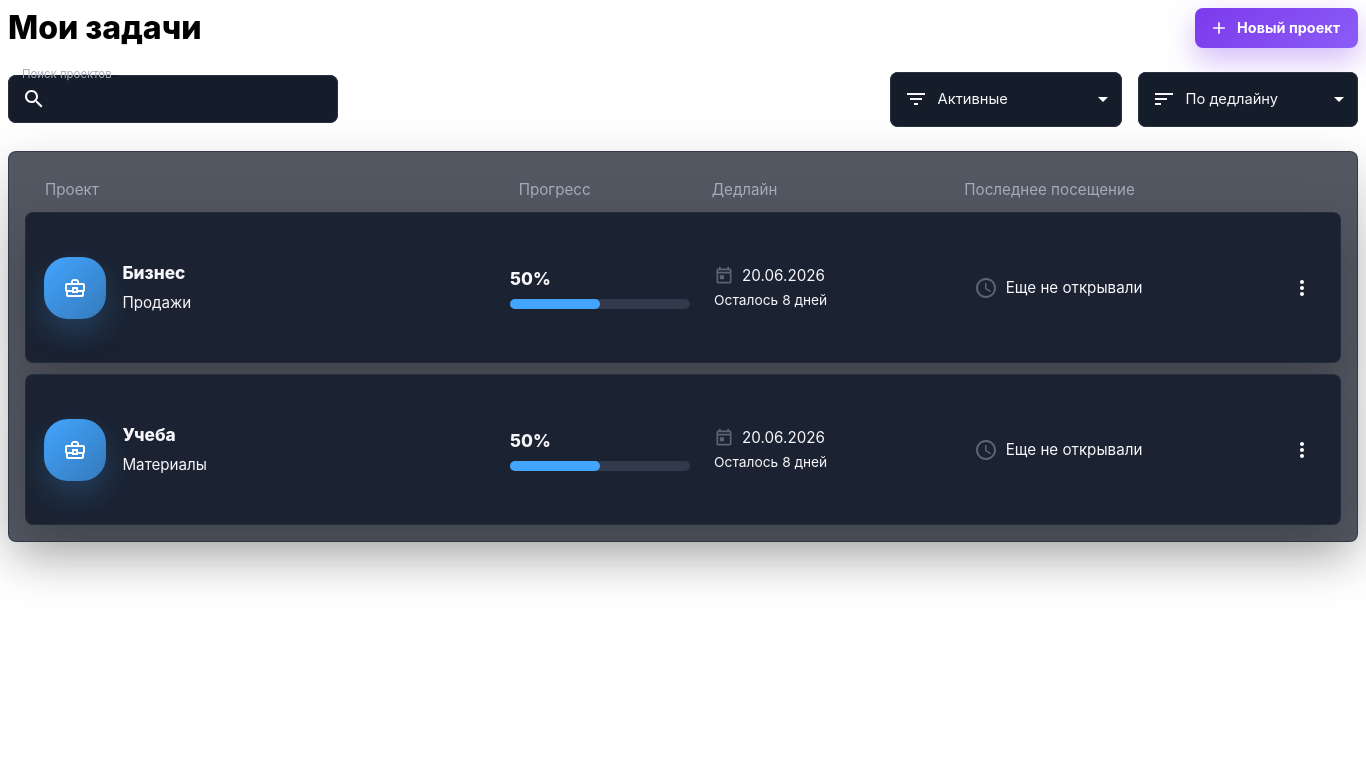
Scenario: ProjectsPage › searches active projects and can switch to archived projects
Type "материал" into the field labelled "Поиск проектов" at (196,99), box x1=54 y1=80 x2=338 y2=118
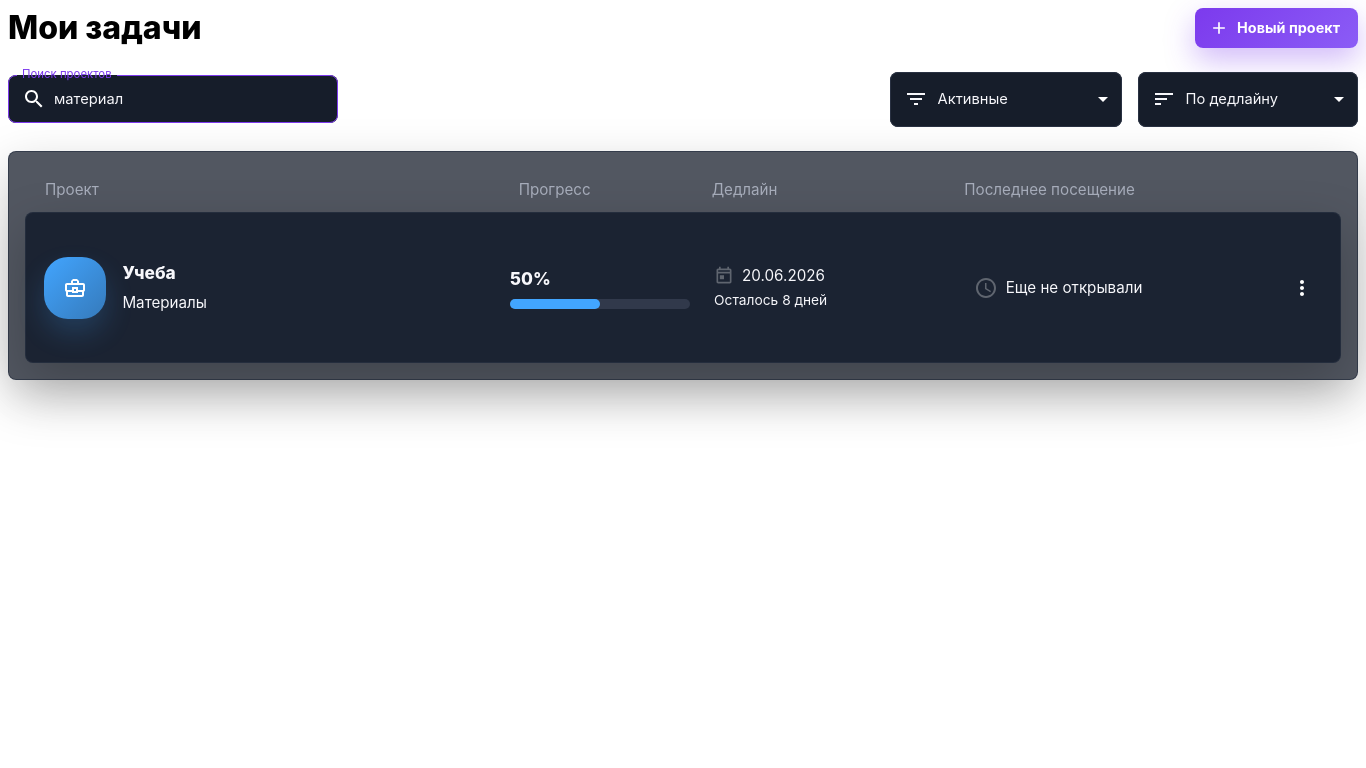
Expected: the link "Учеба" is shown, x1=44 y1=257 x2=1262 y2=319
Expected: the link "Бизнес" is gone
Click the dropdown named "Фильтр проектов" at (973,98), box x1=938 y1=90 x2=1008 y2=108
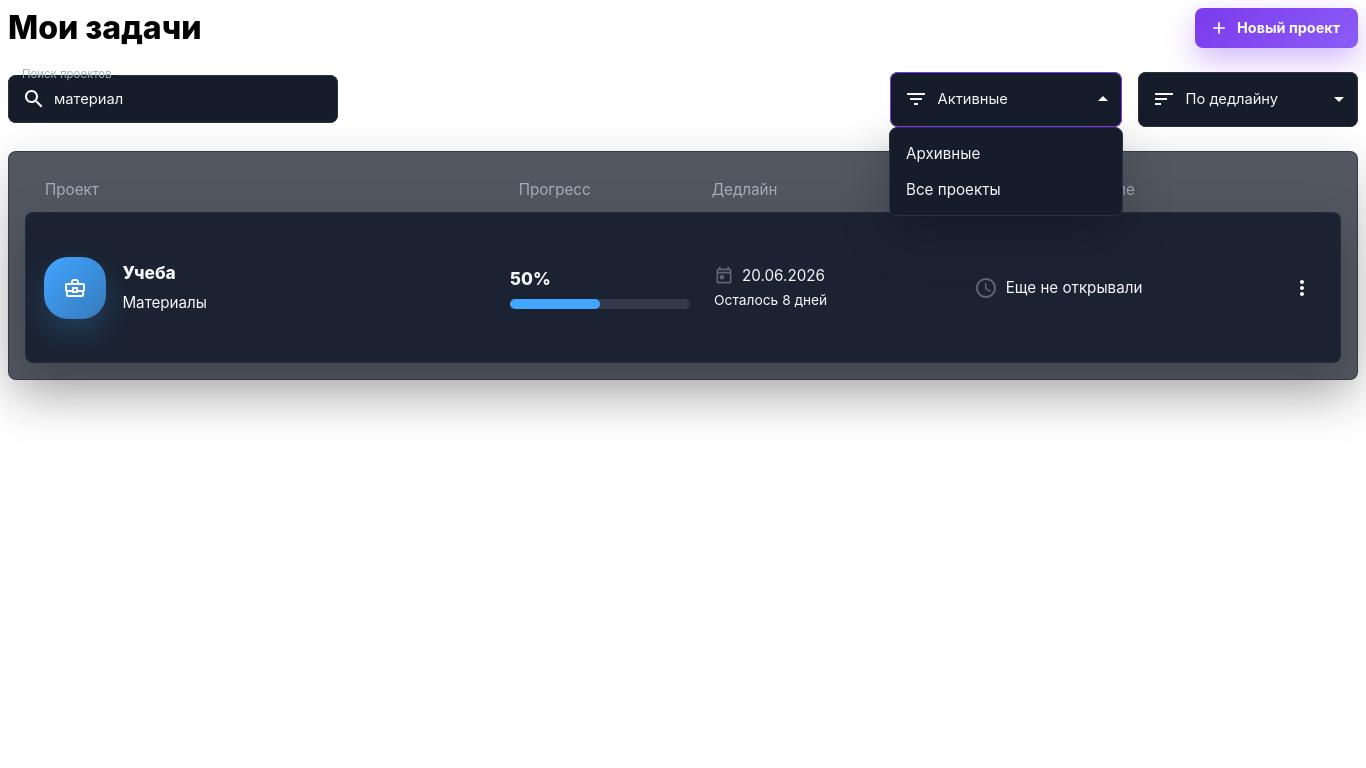
Click the option "Архивные" at (943,154), box x1=906 y1=144 x2=980 y2=163
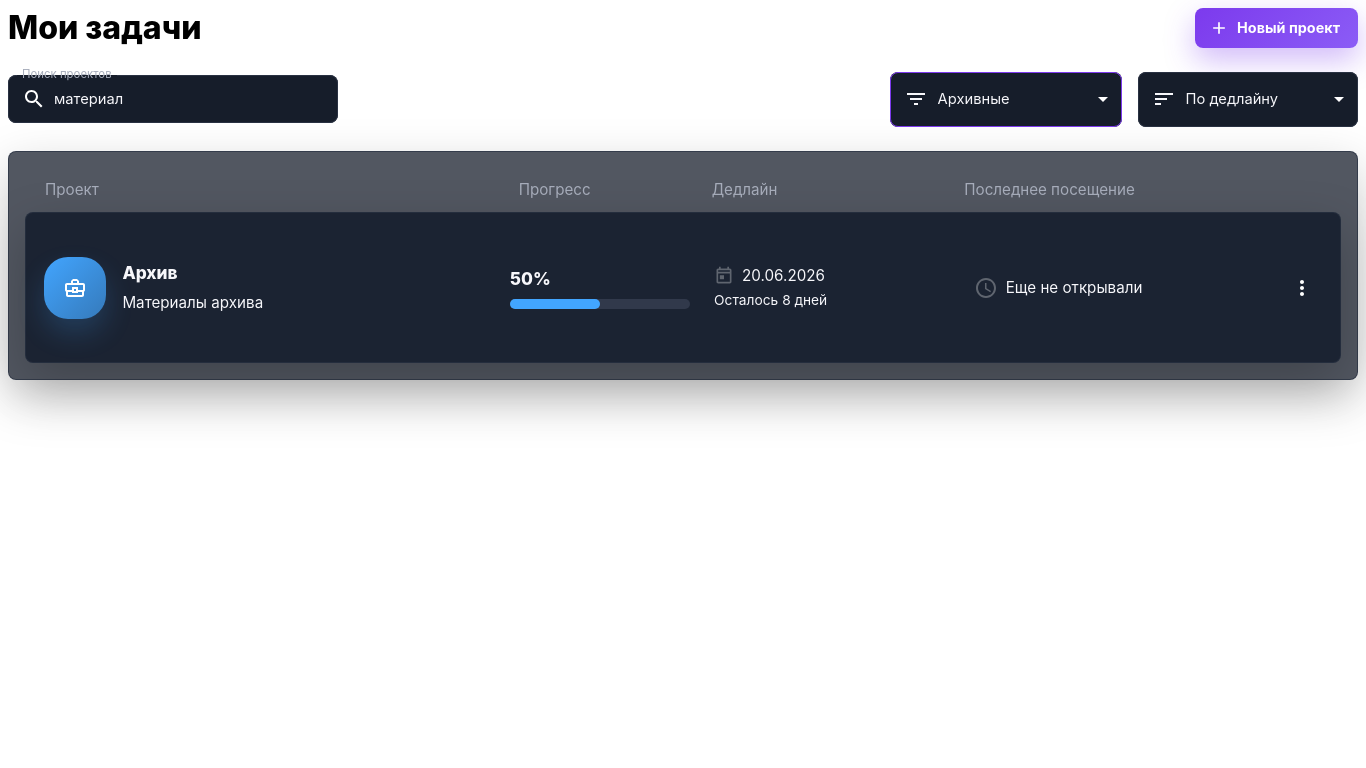
Expected: the link "Архив" is shown, x1=44 y1=257 x2=1262 y2=319
Expected: the link "Учеба" is gone
